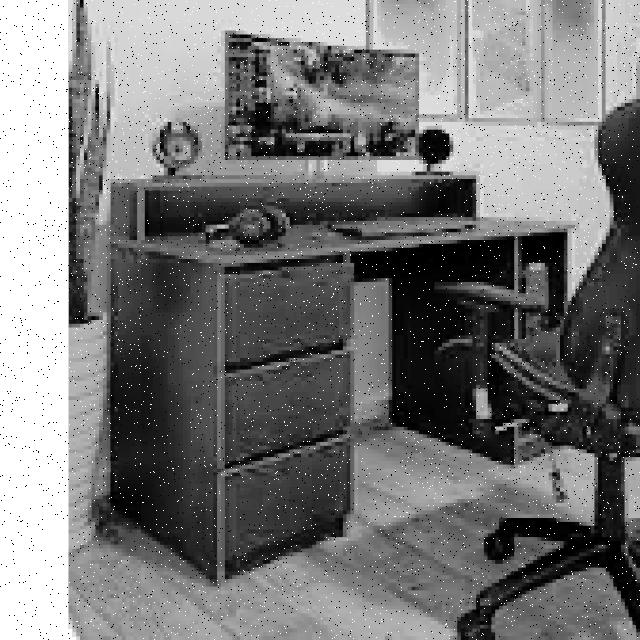book: (435, 45, 640, 640)
table: (110, 179, 583, 583)
